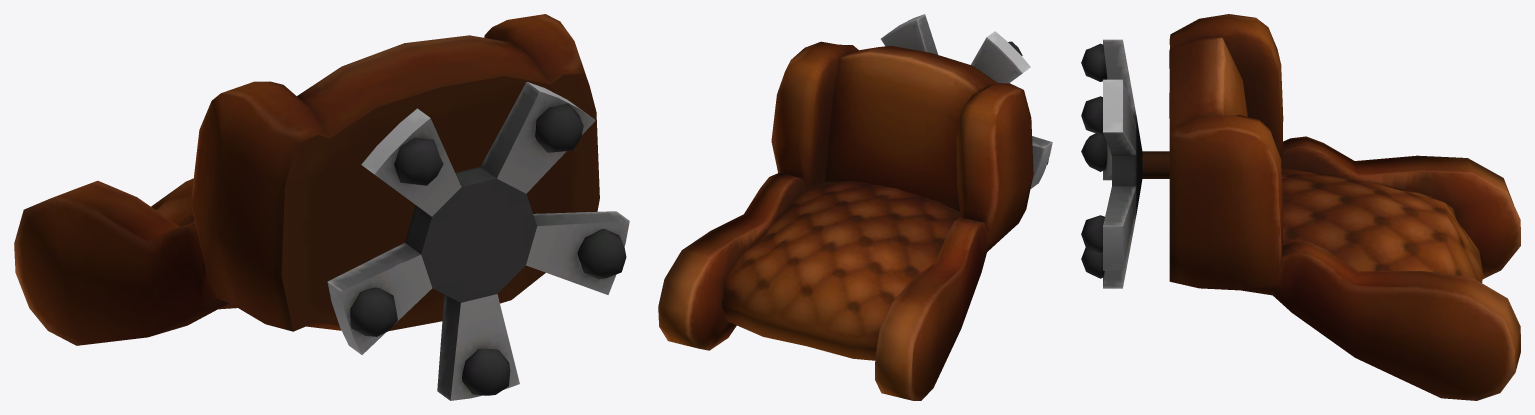
File: BossComputerChair.fbx
3 renders of one model, left to right at view 1: azimuth 30°, elevation 25°; view 2: azimuth 150°, elevation 25°; view 3: azimuth 270°, elevation 25°, orthographic. The views are drawn at different scales.
Parts seen in each view (by area): view 1: BossComputerChair; view 2: BossComputerChair; view 3: BossComputerChair.
Part boxes in pixels (x1,y1,x2,y2): BossComputerChair: [14, 14, 629, 400]; BossComputerChair: [658, 14, 1052, 400]; BossComputerChair: [1081, 14, 1520, 400].
Bounding box in the file's own units: 89.23 × 78.92 × 115.
